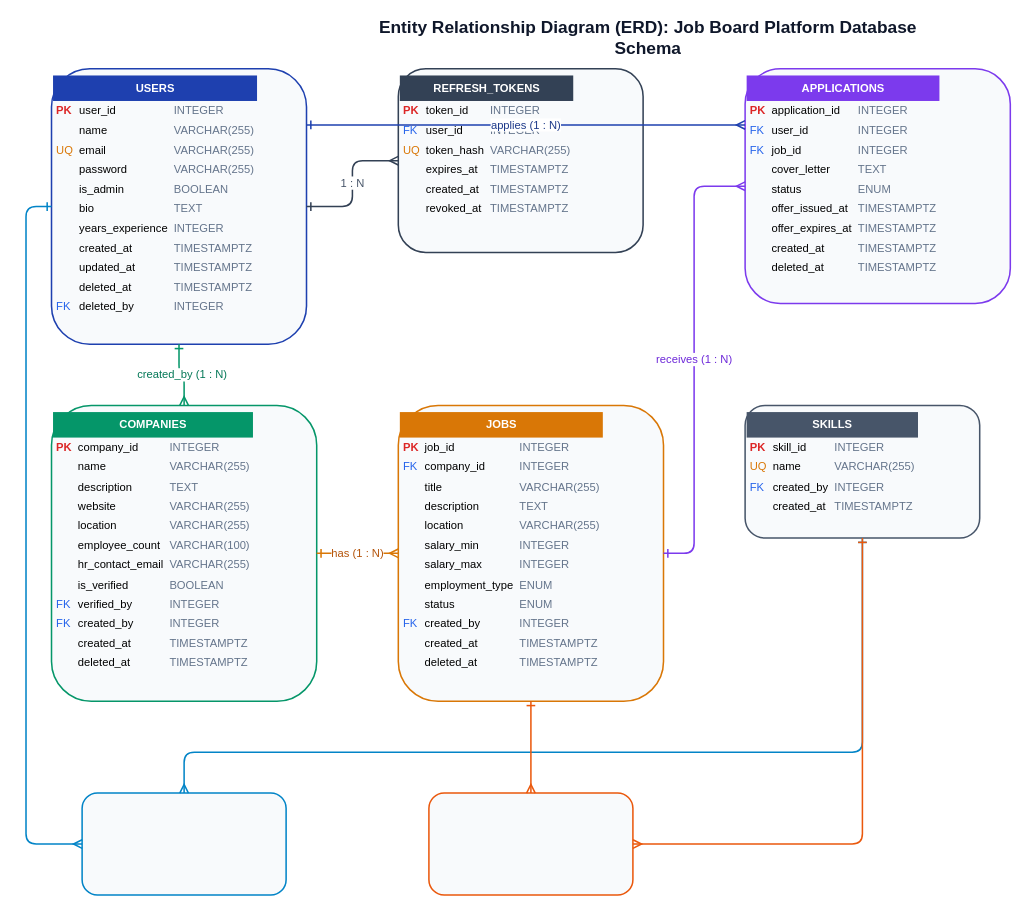
This 1029x914 diagram has some shape labels left out. Each missing label, with the centre of its shape:
"JOB_SKILLS PK, FK job_id INTEGER PK, FK skill_id INTEGER" goes at [530,843].
"USER_SKILLS PK, FK user_id INTEGER PK, FK skill_id INTEGER" goes at [183,843].
